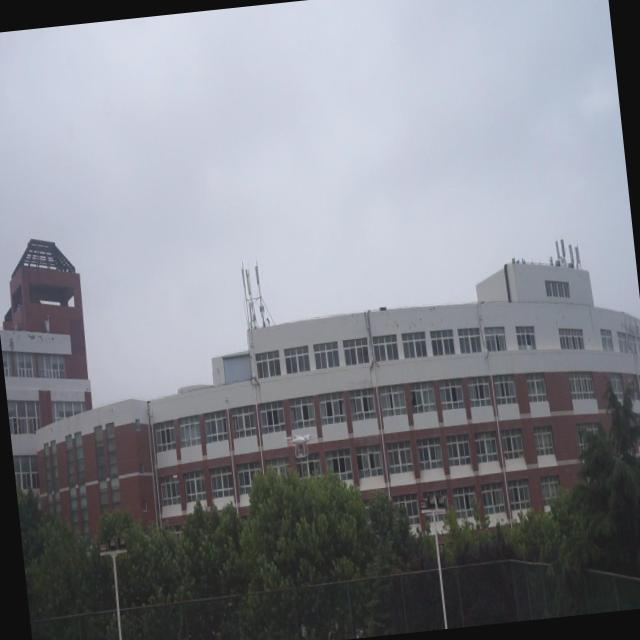drone: (278, 425, 320, 465)
